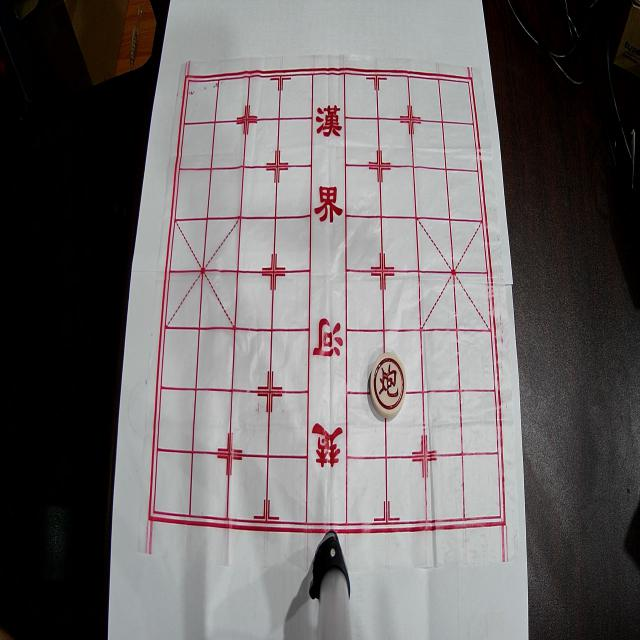red-cannon: (370, 352, 406, 418)
